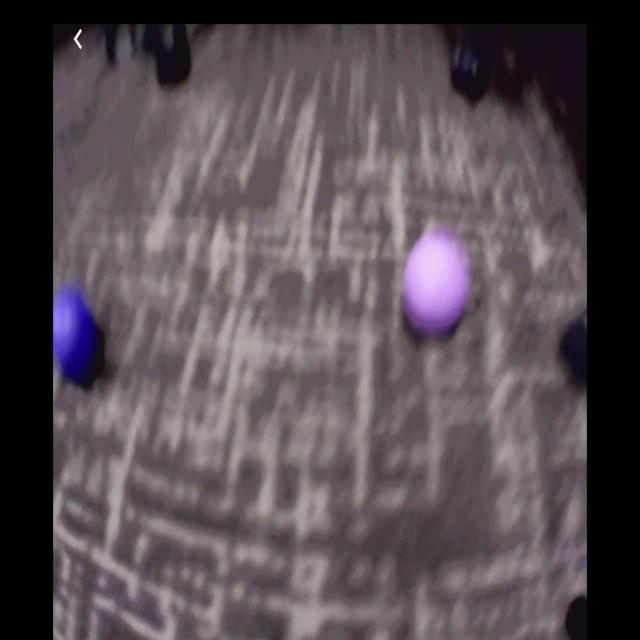ball: (404, 233, 473, 343), (55, 291, 97, 379)
